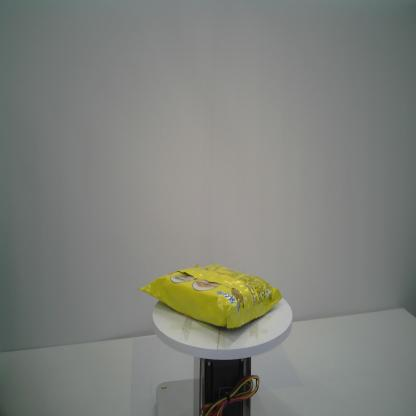Instant Noodles: (136, 263, 283, 330)
